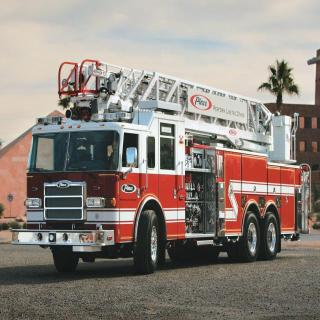Fire_truck: (11, 58, 313, 275)
